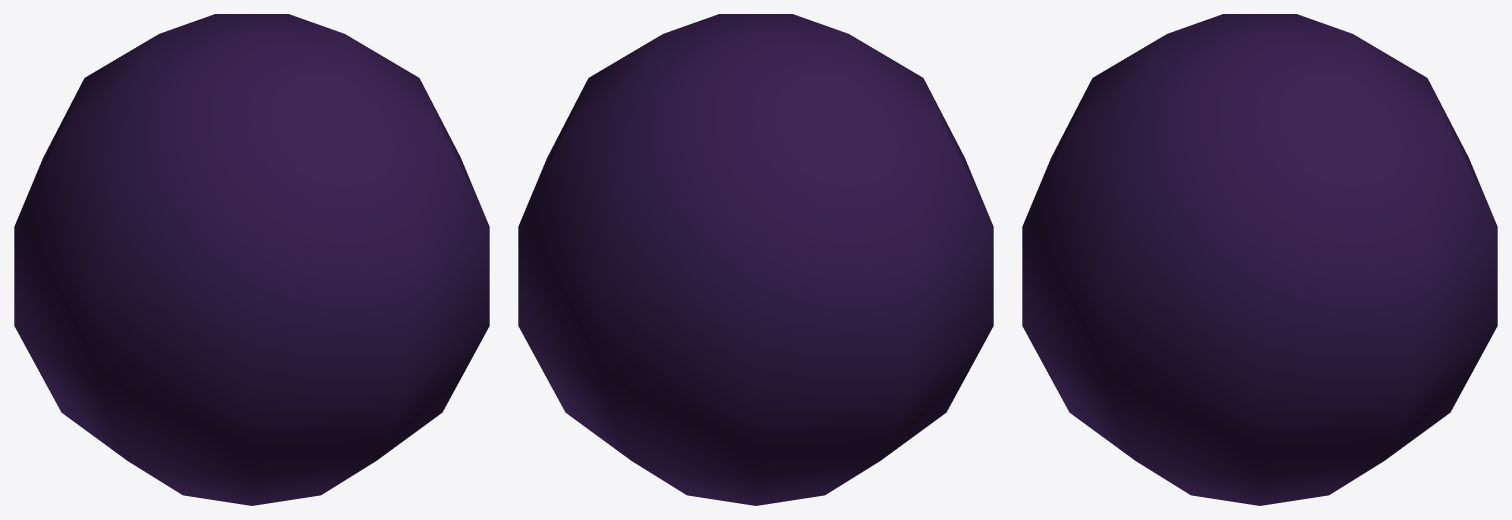
Rendered from nightmoth_stage1.obj.
3 renders of one model, left to right at view 1: azimuth 30°, elevation 25°; view 2: azimuth 150°, elevation 25°; view 3: azimuth 270°, elevation 25°, orthographic.
Bounding box in the file's own units: 1.23 × 1.3 × 1.25.
